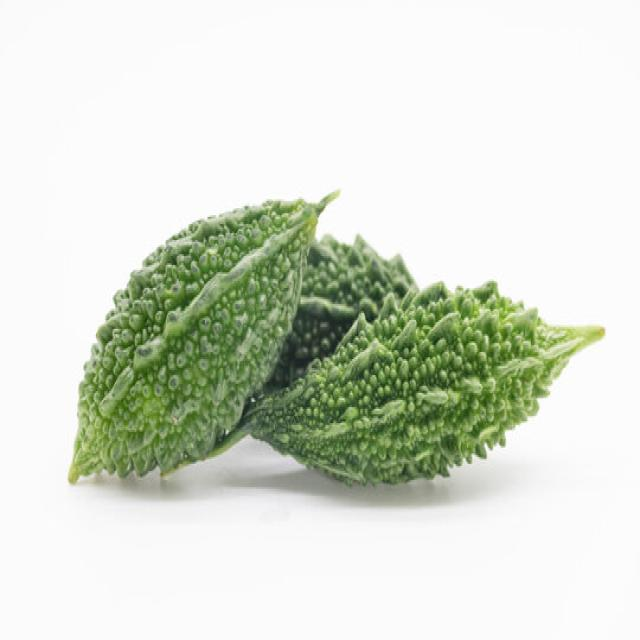Bitter_Gourd: (66, 187, 604, 489), (66, 185, 339, 485)
